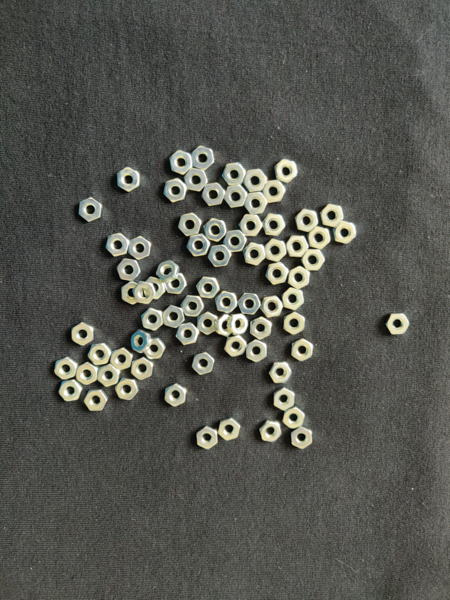nut: (169, 150, 193, 176), (71, 322, 95, 347), (224, 185, 249, 209), (295, 209, 320, 233), (117, 167, 140, 193), (128, 236, 152, 260), (156, 260, 180, 284), (184, 168, 208, 192), (179, 213, 203, 237), (262, 180, 286, 204), (79, 197, 102, 222), (164, 178, 187, 203), (191, 146, 214, 171), (333, 222, 358, 245), (54, 357, 78, 380), (76, 362, 99, 386), (115, 378, 139, 401), (110, 348, 134, 371), (106, 233, 129, 257), (143, 277, 166, 301), (218, 417, 241, 441), (202, 183, 226, 206), (222, 163, 246, 186), (187, 234, 211, 257), (239, 214, 263, 237), (282, 287, 305, 311), (244, 169, 267, 193), (275, 159, 298, 183), (266, 262, 289, 286), (321, 204, 344, 228), (58, 380, 83, 402), (223, 230, 248, 252), (131, 357, 154, 380), (163, 306, 186, 329), (204, 219, 227, 242), (291, 339, 314, 362), (243, 243, 266, 266), (117, 259, 141, 281), (196, 426, 218, 450), (196, 277, 220, 299), (208, 245, 232, 267), (227, 312, 249, 336), (238, 293, 262, 315), (251, 317, 273, 341), (288, 266, 310, 290), (301, 249, 325, 271), (386, 314, 411, 335), (85, 389, 108, 411), (98, 364, 120, 387), (122, 282, 144, 305), (132, 283, 155, 305), (164, 273, 187, 295), (141, 308, 163, 331), (165, 384, 187, 407), (192, 353, 215, 375), (259, 420, 282, 442), (176, 323, 199, 345), (225, 335, 247, 358), (283, 406, 305, 429), (269, 362, 292, 384), (263, 214, 286, 236), (265, 239, 287, 262), (309, 227, 331, 250), (181, 296, 205, 317), (244, 193, 268, 214), (144, 338, 166, 360), (215, 292, 237, 314), (246, 340, 268, 362), (261, 296, 283, 318), (88, 344, 111, 365), (197, 312, 218, 335), (274, 388, 295, 411), (284, 312, 305, 335), (286, 236, 309, 257), (291, 427, 312, 449), (131, 330, 151, 353), (215, 314, 234, 338)
